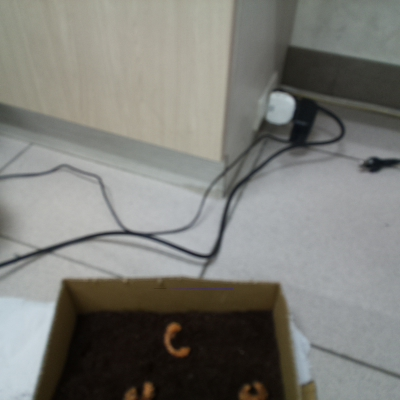eggs: (157, 315, 196, 364), (233, 373, 274, 400), (114, 375, 158, 400)
